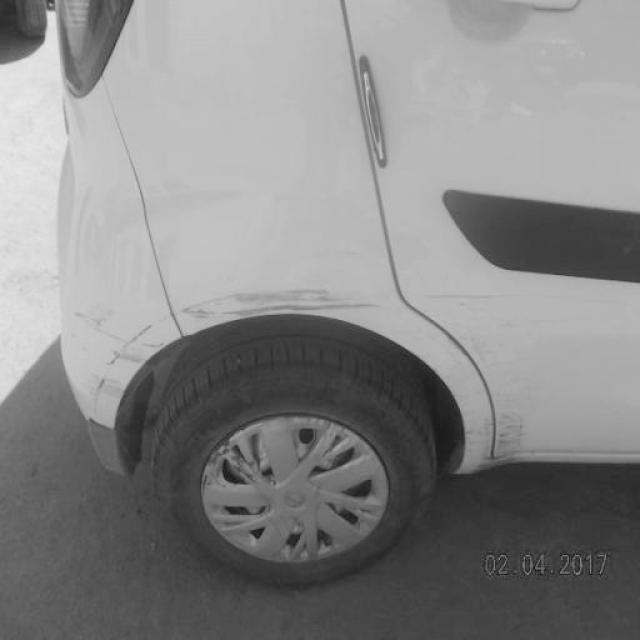car damage: (86, 307, 177, 418), (213, 282, 386, 314), (80, 307, 167, 368), (462, 401, 531, 474), (416, 284, 522, 309), (183, 300, 209, 320)
